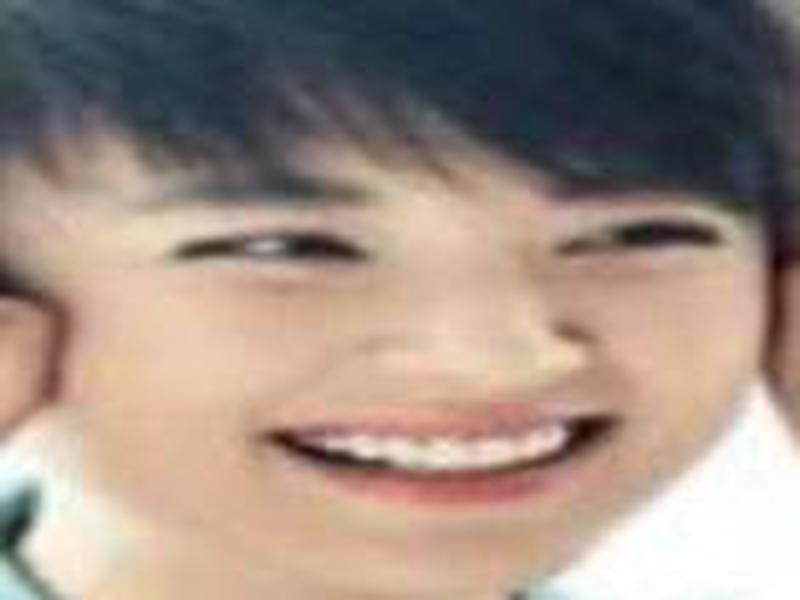without_mask: (14, 104, 766, 593)
